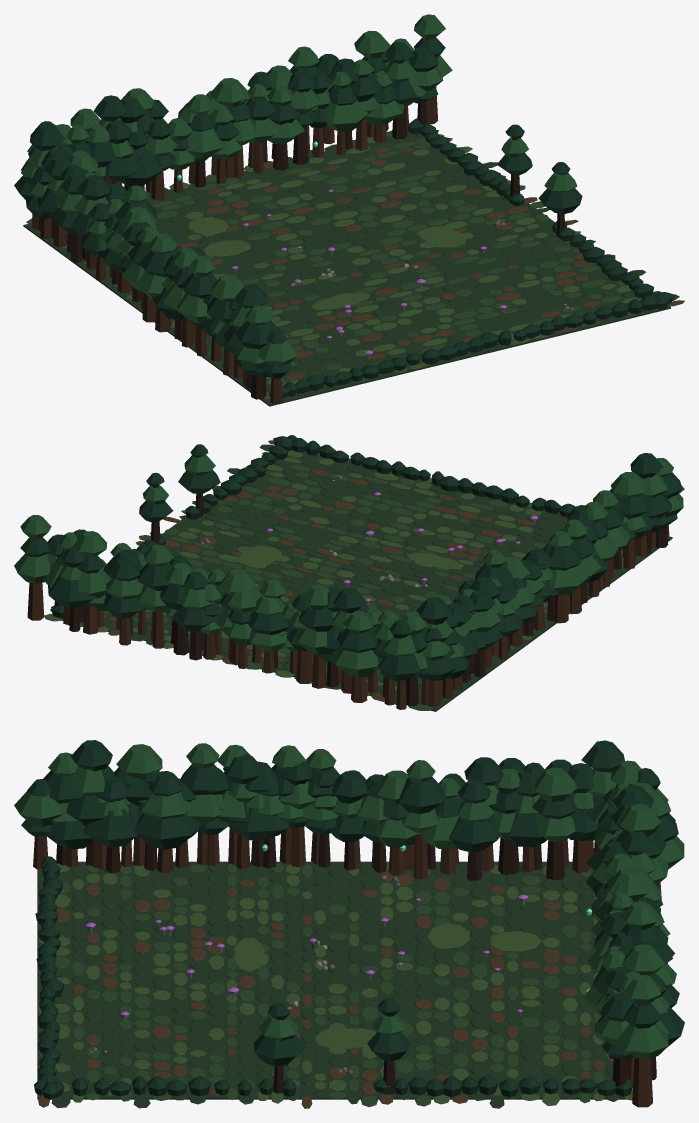
The model's file is stage.glb.
3 renders of one model, top to bottom at view 1: azimuth 30°, elevation 25°; view 2: azimuth 150°, elevation 25°; view 3: azimuth 270°, elevation 25°, orthographic. The views are drawn at different scales.
Visible parts, largest first — view 1: stage_floor, stage_walls, stage_props; view 2: stage_walls, stage_floor, stage_props; view 3: stage_floor, stage_walls, stage_props.
Part boxes in pixels (x1,y1,x2,y2): stage_floor: (23, 130, 684, 406); stage_walls: (14, 14, 673, 404); stage_props: (177, 124, 582, 359); stage_walls: (14, 435, 684, 709); stage_floor: (44, 440, 672, 711); stage_props: (139, 444, 538, 604); stage_floor: (37, 861, 632, 1108); stage_walls: (14, 740, 684, 1107); stage_props: (86, 844, 591, 1094).
Bounding box in the file's own units: 36.75 × 8.25 × 38.9.
